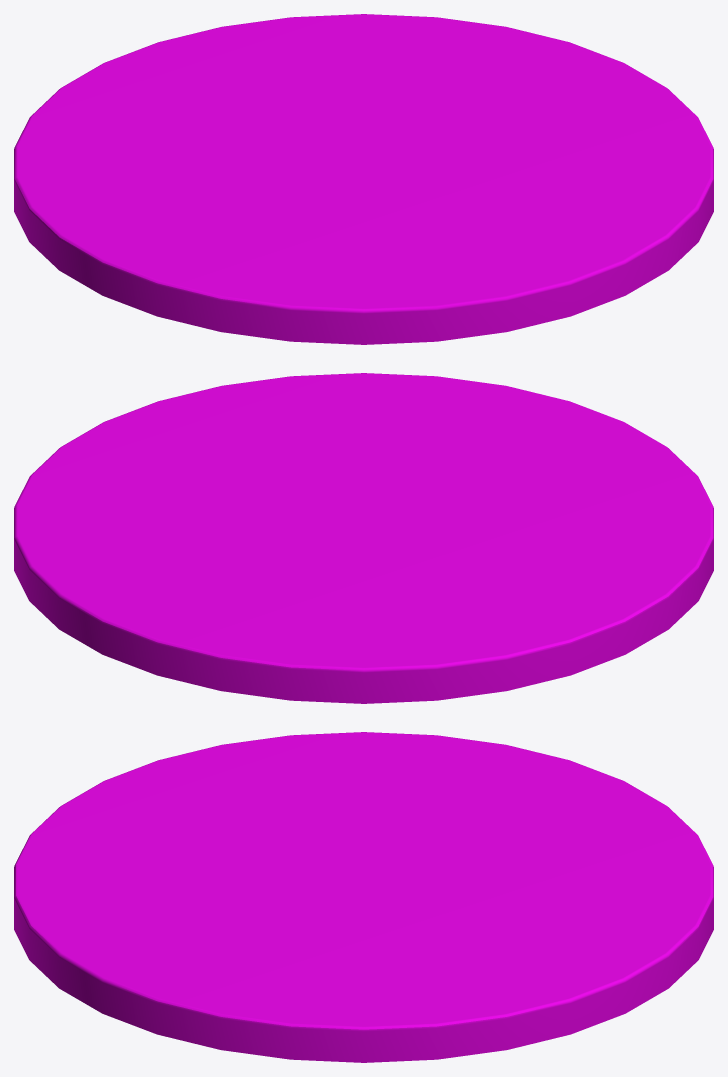
Rendered from diaz.fbx.
3 views of the same model, one above another, from view 1: azimuth 30°, elevation 25°; view 2: azimuth 150°, elevation 25°; view 3: azimuth 270°, elevation 25° (orthographic).
Visible parts, largest first — view 1: pCylinder36; view 2: pCylinder36; view 3: pCylinder36.
Part boxes in pixels (box(x1,y1,x2,y2)): pCylinder36: box(14, 14, 713, 344); pCylinder36: box(14, 373, 713, 703); pCylinder36: box(14, 732, 713, 1062).
Size of the model in its own units: 35.48 by 1.93 by 35.29.
